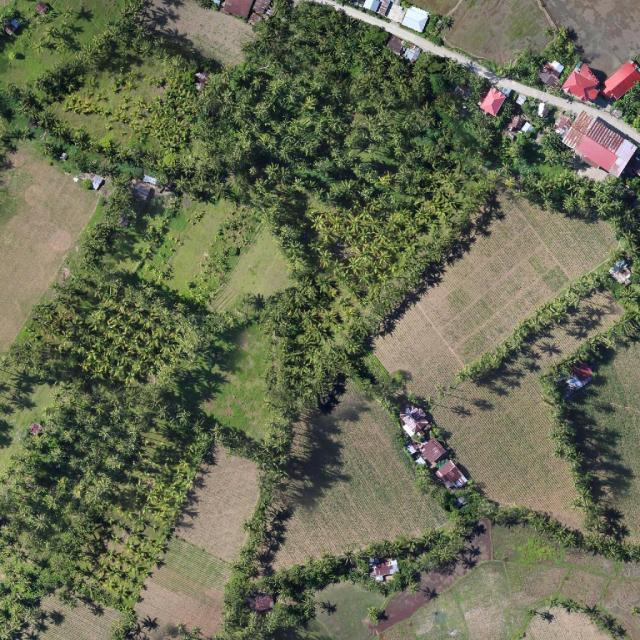agricultural_land: (348, 177, 640, 530), (241, 369, 447, 568), (199, 319, 303, 442), (196, 226, 304, 333), (166, 195, 232, 297)
building: (388, 399, 470, 501), (477, 80, 512, 118), (535, 57, 569, 91), (385, 33, 422, 64), (507, 114, 533, 131), (536, 102, 550, 117), (518, 95, 526, 103)
greenland: (207, 518, 489, 640), (544, 275, 640, 542), (488, 108, 640, 271), (453, 265, 608, 394), (437, 480, 640, 565)
